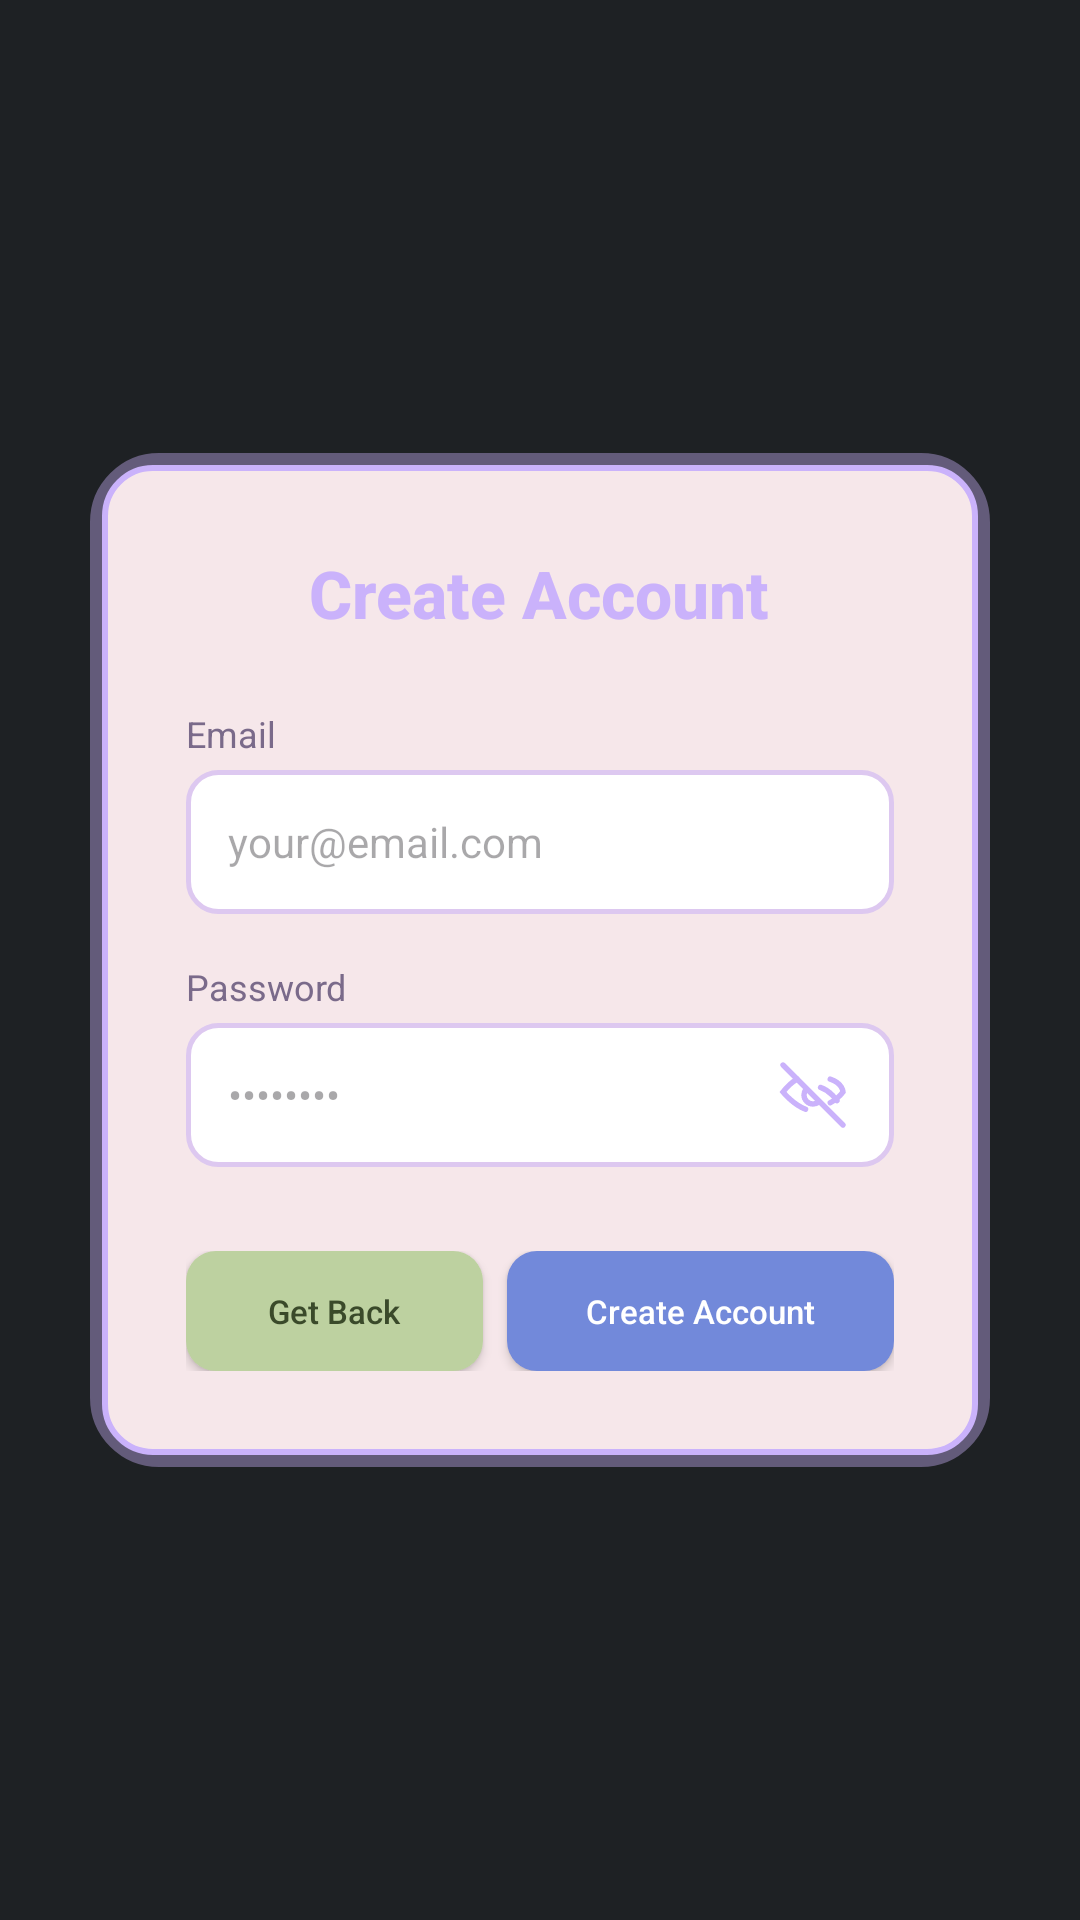

Screen size 1080px×1920px. Icon name, then its center in pixels as [x,y]:
Toggle password visibility: [828,1095]
